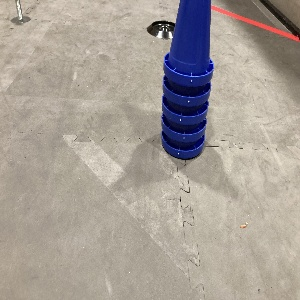Blue_5: (160, 0, 214, 161)
